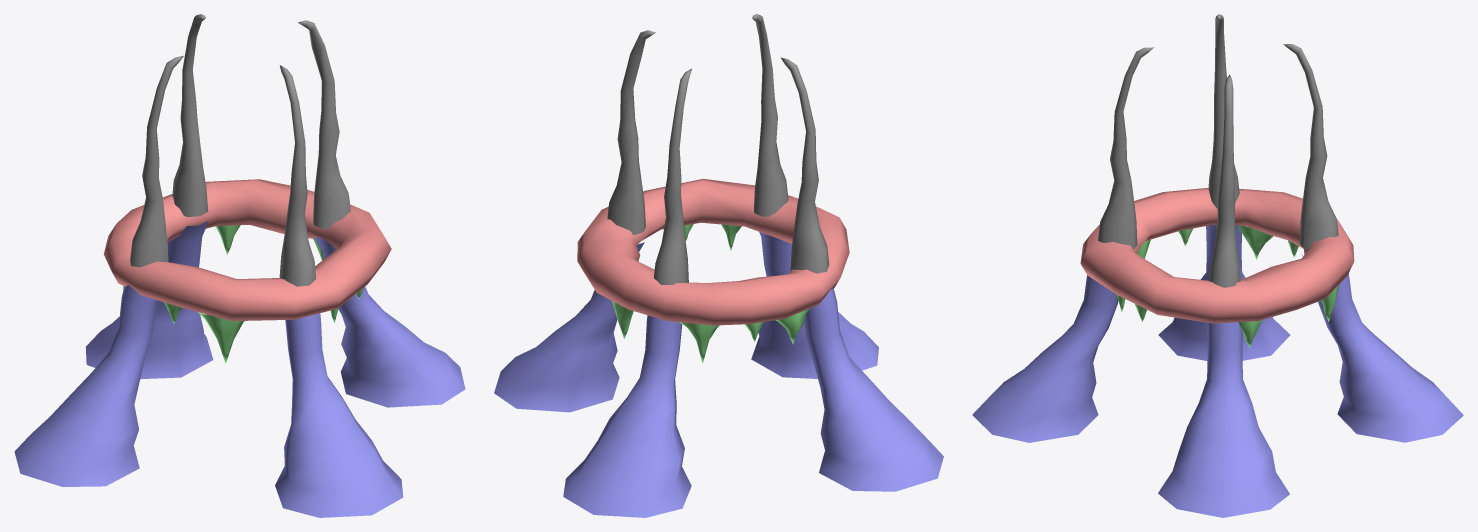
File: fx_e_magic_evil_obj0555.gltf
3 renders of one model, left to right at view 1: azimuth 30°, elevation 25°; view 2: azimuth 150°, elevation 25°; view 3: azimuth 270°, elevation 25°, orthographic. The views are drawn at different scales.
Parts seen in each view (by area): view 1: fx_e_magic_evil_obj0555; view 2: fx_e_magic_evil_obj0555; view 3: fx_e_magic_evil_obj0555.
Part boxes in pixels (x1=…): fx_e_magic_evil_obj0555: x1=14, y1=14, x2=465, y2=517; fx_e_magic_evil_obj0555: x1=494, y1=14, x2=943, y2=517; fx_e_magic_evil_obj0555: x1=972, y1=14, x2=1463, y2=517.
Size of the model in its own units: 6.56 by 5.44 by 6.58.
